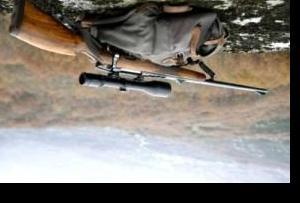larga: (9, 0, 269, 98)
